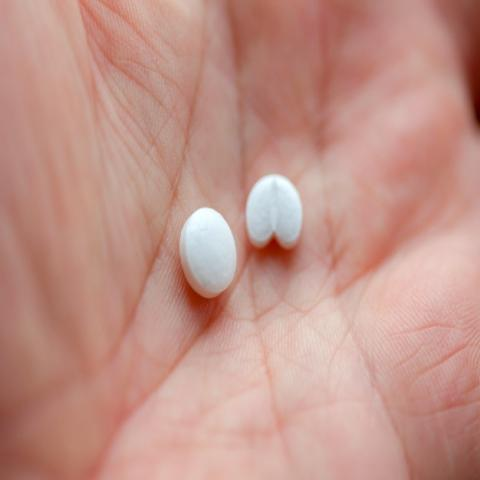Pill: (163, 198, 243, 319), (243, 155, 319, 267)
